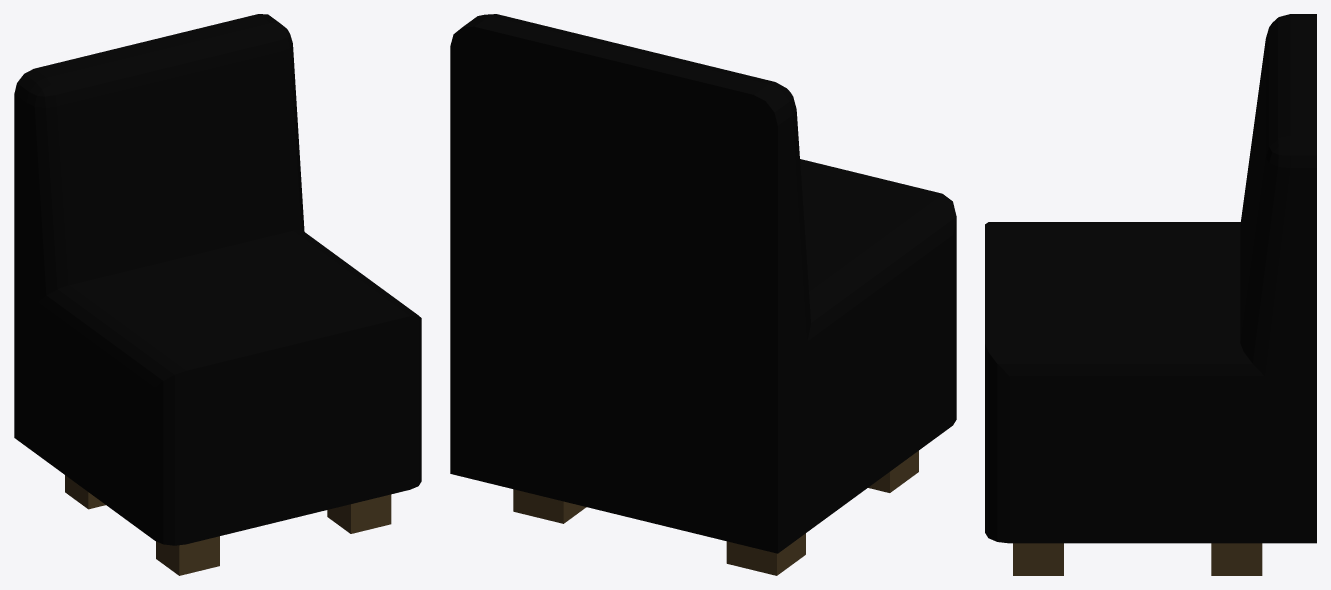
3 renders of one model, left to right at view 1: azimuth 30°, elevation 25°; view 2: azimuth 150°, elevation 25°; view 3: azimuth 270°, elevation 25°, orthographic. The views are drawn at different scales.
Parts seen in each view (by area): view 1: MC-22; view 2: MC-22; view 3: MC-22.
Part boxes in pixels (x1=…): MC-22: x1=14, y1=14, x2=421, y2=575; MC-22: x1=450, y1=14, x2=956, y2=575; MC-22: x1=985, y1=14, x2=1316, y2=575.
Size of the model in its own units: 52 by 76.73 by 52.
